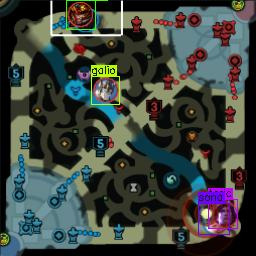elise: (75, 8, 99, 32)
galio: (92, 76, 118, 101)
jarvaniv: (65, 1, 91, 26)
sona: (202, 209, 226, 234)
taric: (212, 202, 236, 226)
tristana: (210, 190, 234, 215)
